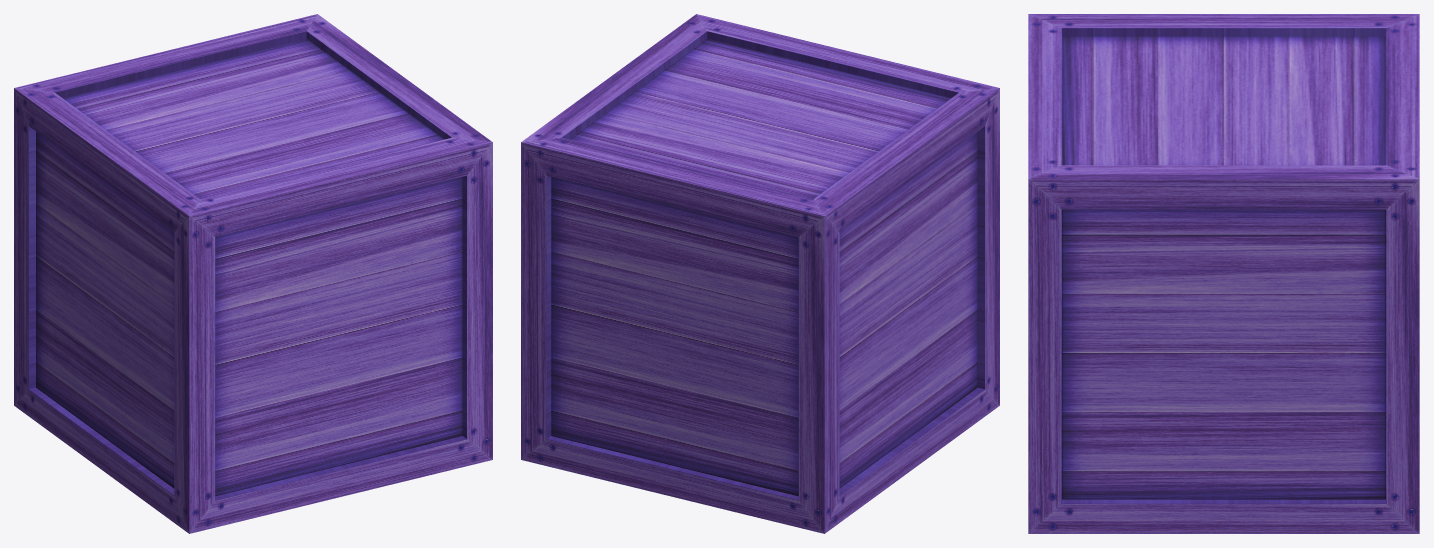
The model's file is Game_Asset_Box_Violet.FBX.
The picture shows the model from 3 angles, left to right: view 1: azimuth 30°, elevation 25°; view 2: azimuth 150°, elevation 25°; view 3: azimuth 270°, elevation 25°; orthographic projection. The views are drawn at different scales.
Parts seen in each view (by area): view 1: Game_Asset_Box_Violet; view 2: Game_Asset_Box_Violet; view 3: Game_Asset_Box_Violet.
Part boxes in pixels (bbox=[...]): Game_Asset_Box_Violet: bbox=[14, 14, 492, 533]; Game_Asset_Box_Violet: bbox=[521, 14, 999, 533]; Game_Asset_Box_Violet: bbox=[1028, 14, 1419, 533].
Bounding box in the file's own units: 40 × 40 × 40.
